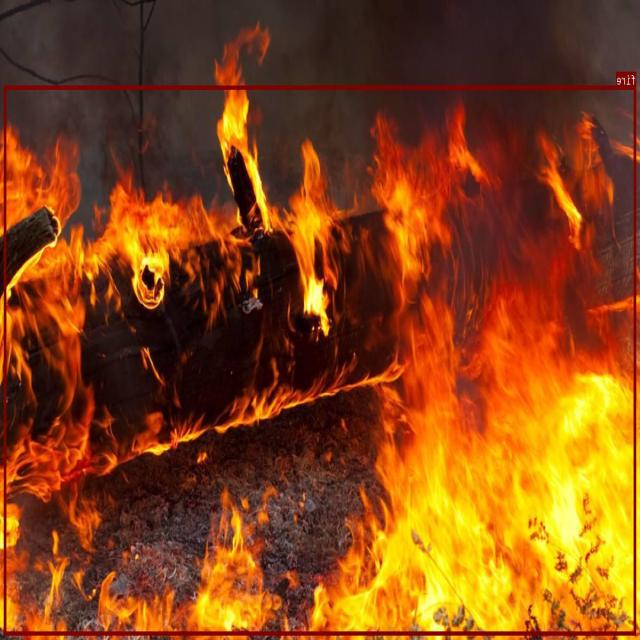fire: (4, 85, 636, 635)
